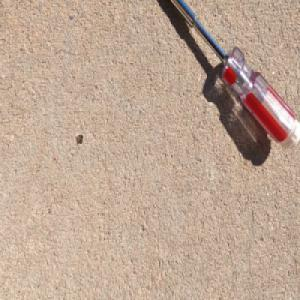Screwdriver: (168, 0, 300, 151)
